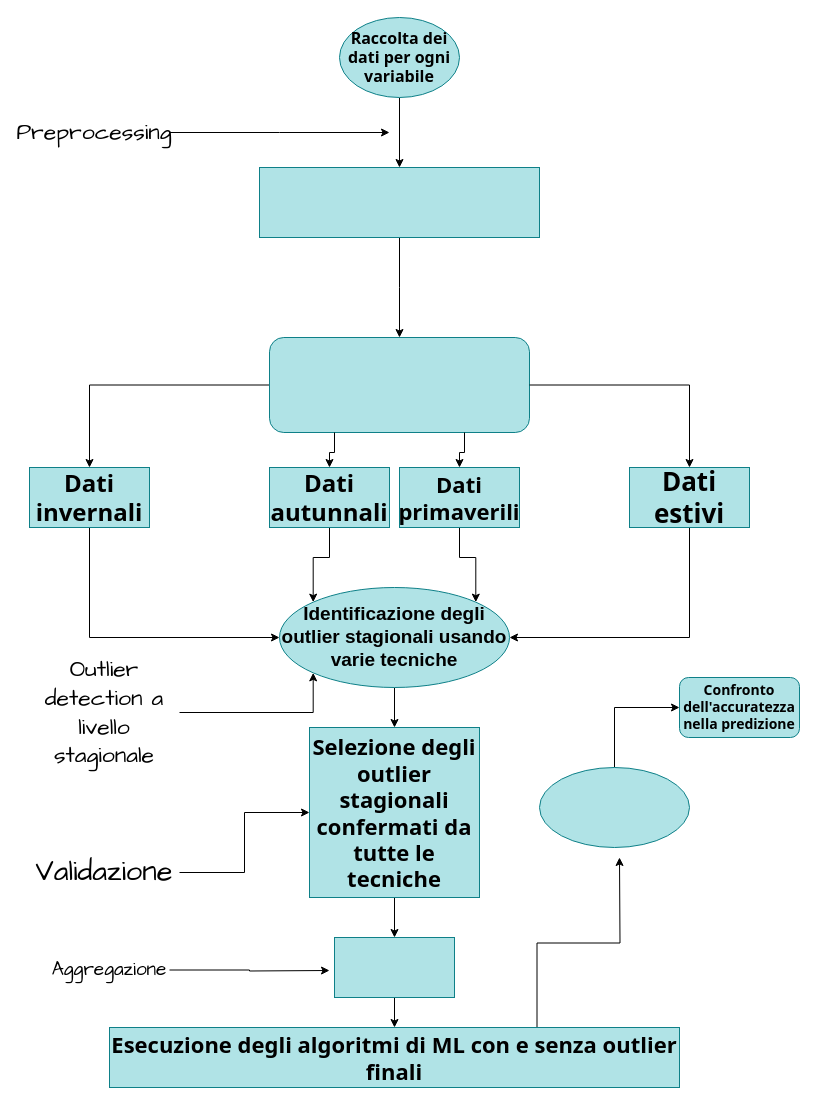
Image size: 817x1105. Some labels were removed from this diagram. Each missing label, with the centre of its shape:
Aggregazione dei dati di ciascuna variabile in un DATAFRAME: (399,202)
Suddivisione stagionale: (399,384)
Unione degli outlier stagionali: (394,967)
Valutazione della performance: (614,807)
